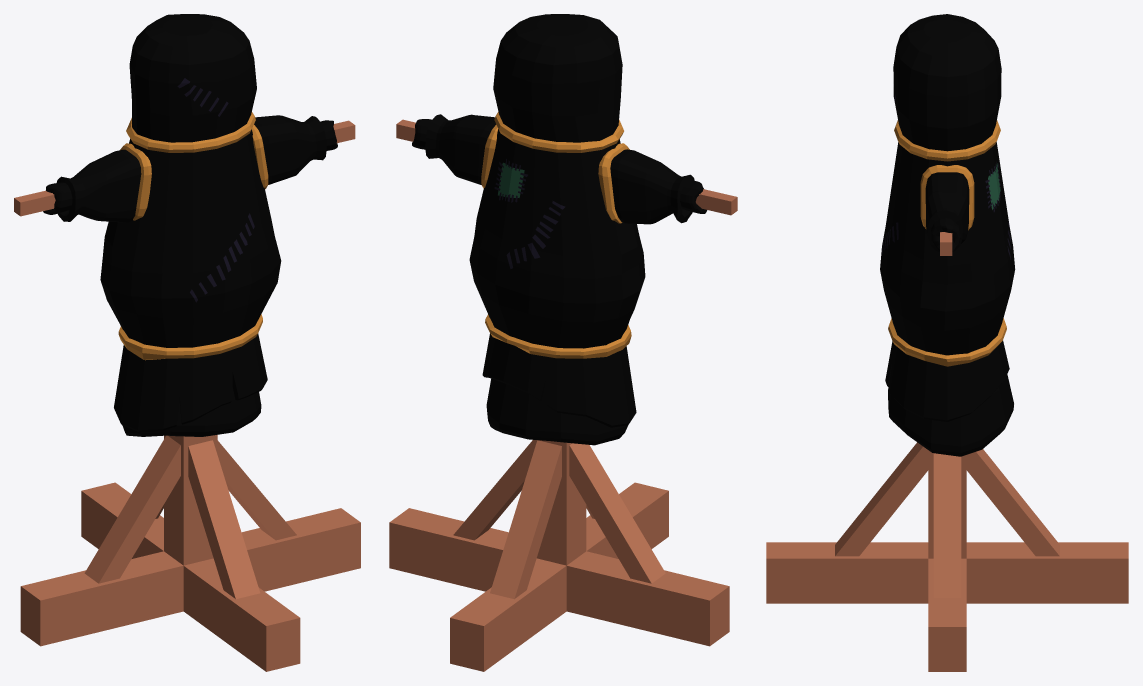
The model's file is Training Dummy 01.fbx.
3 renders of one model, left to right at view 1: azimuth 30°, elevation 25°; view 2: azimuth 150°, elevation 25°; view 3: azimuth 270°, elevation 25°, orthographic. The views are drawn at different scales.
Visible parts, largest first — view 1: Training Dummy 01; view 2: Training Dummy 01; view 3: Training Dummy 01.
Boxes of the visible parts, x1,y1,x2,y2 form: Training Dummy 01: (14,14,360,671); Training Dummy 01: (389,14,737,671); Training Dummy 01: (766,14,1128,671).
Bounding box in the file's own units: 126 × 207 × 121.
